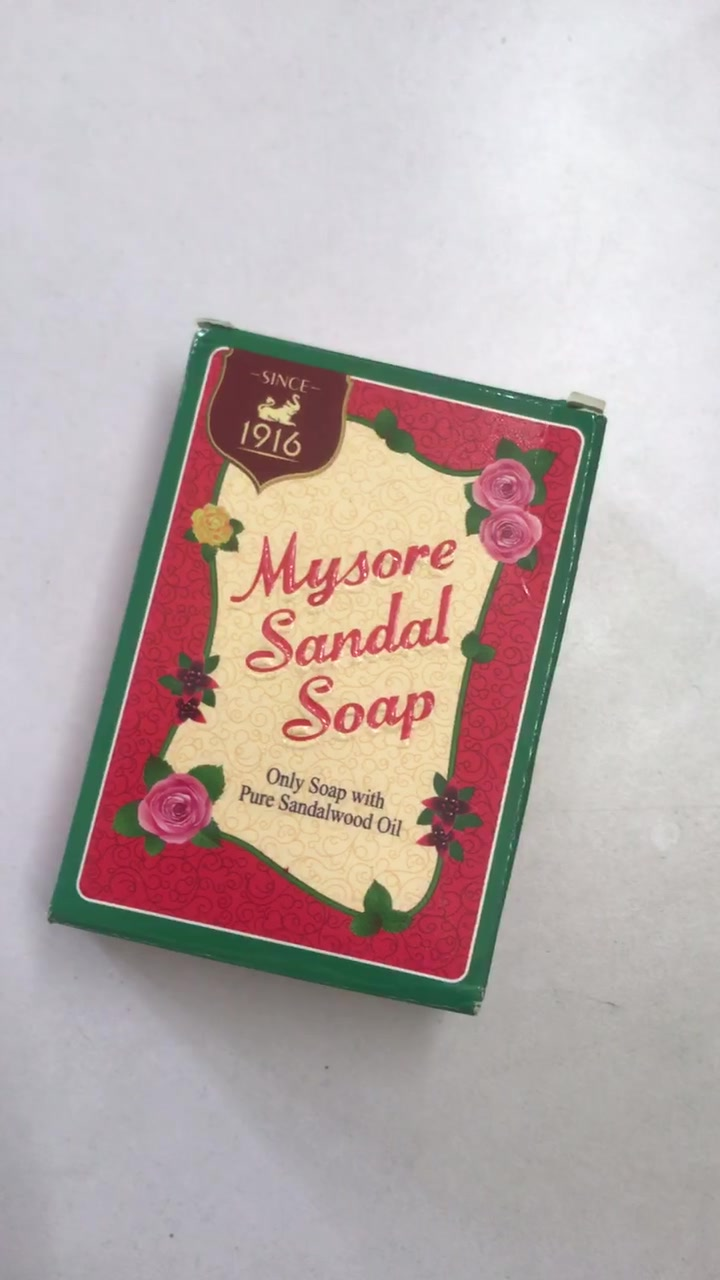mysore sandal soap: (56, 324, 608, 1014)
